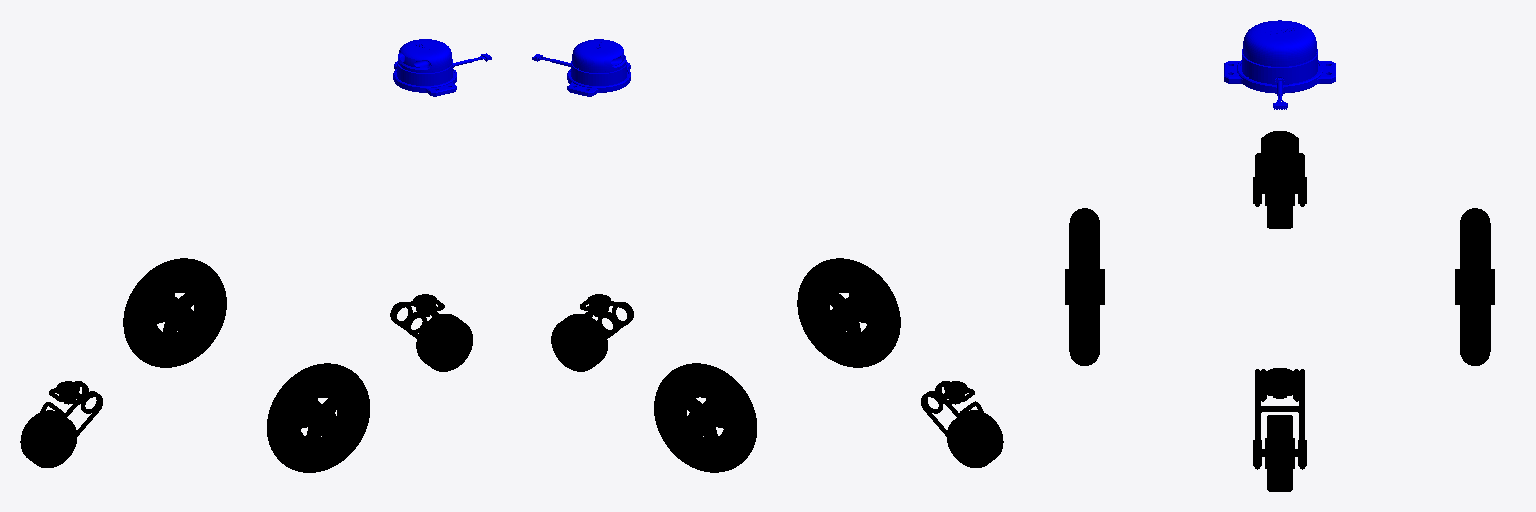
The robot description file, URDF, robot "adamr2":
<?xml version="1.0" encoding="utf-8"?>
<!-- =================================================================================== -->
<!-- |    This document was autogenerated by xacro from robot.xacro                    | -->
<!-- |    EDITING THIS FILE BY HAND IS NOT RECOMMENDED                                 | -->
<!-- =================================================================================== -->
<robot name="adamr2">
  <!-- base_footprint -->
  <link name="base_footprint"/>
  <joint name="base_link_joint" type="fixed">
    <origin xyz="0.0 0.0 0.262"/>
    <parent link="base_footprint"/>
    <child link="base_link"/>
  </joint>
  <link name="base_link">
    <visual>
      <origin xyz="0.0 0.0 0.0"/>
      <geometry>
        <mesh filename="package://adamr2_description/meshes/base_link.STL"/>
      </geometry>
      <material name="red">
        <color rgba="1.0 0.0 0.0 1.0"/>
      </material>
    </visual>
    <inertial>
      <origin xyz="0.0 0.0 0.0"/>
      <mass value="22.68"/>
      <inertia ixx="0.39" ixy="0.04" ixz="0.0" iyy="0.64" iyz="0.02" izz="0.70"/>
    </inertial>
    <collision>
      <origin xyz="0.0 0.0 0.0"/>
      <geometry>
        <box size="0.59 0.32 0.275"/>
      </geometry>
    </collision>
  </link>
  <joint name="left_wheel_joint" type="continuous">
    <origin xyz="0.0 0.1915 -0.1845"/>
    <parent link="base_link"/>
    <child link="left_wheel_link"/>
    <axis xyz="0 1 0"/>
  </joint>
  <link name="left_wheel_link">
    <visual>
      <origin rpy="0.0 0.0 0.0"/>
      <geometry>
        <mesh filename="package://adamr2_description/meshes/wheel_link.STL"/>
      </geometry>
      <material name="black">
        <color rgba="0.0 0.0 0.0 1.0"/>
      </material>
    </visual>
    <inertial>
      <origin xyz="0.0 0.0 0.0"/>
      <mass value="0.4"/>
      <inertia ixx="0.001" ixy="0.0" ixz="0.0" iyy="0.0006" iyz="0.0" izz="0.0006"/>
    </inertial>
    <collision>
      <origin rpy="1.57079632679 0.0 0.0" xyz="0.0 0.0 0.0"/>
      <geometry>
        <cylinder length="0.030" radius="0.0775"/>
      </geometry>
    </collision>
  </link>
  <transmission name="left_wheel_trans">
    <type>transmission_interface/SimpleTransmission</type>
    <joint name="left_wheel_joint">
      <hardwareInterface>hardware_interface/VelocityJointInterface</hardwareInterface>
    </joint>
    <actuator name="left_wheel_motor">
      <hardwareInterface>hardware_interface/VelocityJointInterface</hardwareInterface>
      <mechanicalReduction>1</mechanicalReduction>
    </actuator>
  </transmission>
  <joint name="right_wheel_joint" type="continuous">
    <origin xyz="0.0 -0.1915 -0.1845"/>
    <parent link="base_link"/>
    <child link="right_wheel_link"/>
    <axis xyz="0 1 0"/>
  </joint>
  <link name="right_wheel_link">
    <visual>
      <origin rpy="0.0 0.0 0.0"/>
      <geometry>
        <mesh filename="package://adamr2_description/meshes/wheel_link.STL"/>
      </geometry>
      <material name="black">
        <color rgba="0.0 0.0 0.0 1.0"/>
      </material>
    </visual>
    <inertial>
      <origin xyz="0.0 0.0 0.0"/>
      <mass value="0.4"/>
      <inertia ixx="0.001" ixy="0.0" ixz="0.0" iyy="0.0006" iyz="0.0" izz="0.0006"/>
    </inertial>
    <collision>
      <origin rpy="1.57079632679 0.0 0.0" xyz="0.0 0.0 0.0"/>
      <geometry>
        <cylinder length="0.030" radius="0.0775"/>
      </geometry>
    </collision>
  </link>
  <transmission name="right_wheel_trans">
    <type>transmission_interface/SimpleTransmission</type>
    <joint name="right_wheel_joint">
      <hardwareInterface>hardware_interface/VelocityJointInterface</hardwareInterface>
    </joint>
    <actuator name="right_wheel_motor">
      <hardwareInterface>hardware_interface/VelocityJointInterface</hardwareInterface>
      <mechanicalReduction>1</mechanicalReduction>
    </actuator>
  </transmission>
  <joint name="back_caster_support_joint" type="continuous">
    <origin xyz="-0.275 0.0 -0.1498"/>
    <parent link="base_link"/>
    <child link="back_caster_support_link"/>
    <axis xyz="0 0 1"/>
  </joint>
  <link name="back_caster_support_link">
    <visual>
      <origin rpy="0.0 0.0 0.0"/>
      <geometry>
        <mesh filename="package://adamr2_description/meshes/caster_link.STL"/>
      </geometry>
      <material name="red">
        <color rgba="0.0 0.0 0.0 1.0"/>
      </material>
    </visual>
    <inertial>
      <origin xyz="0.0 0.0 0.0"/>
      <mass value="0.3"/>
      <inertia ixx="1e-5" ixy="0.0" ixz="0.0" iyy="1e-5" iyz="0.0" izz="1e-5"/>
    </inertial>
  </link>
  <joint name="back_caster_wheel_joint" type="continuous">
    <origin rpy="0.0 0.0 0.0" xyz="-0.030 0.0 -0.072"/>
    <parent link="back_caster_support_link"/>
    <child link="back_caster_wheel_link"/>
    <axis xyz="0.0 1 0.0"/>
  </joint>
  <link name="back_caster_wheel_link">
    <inertial>
      <origin xyz="0.0 0.0 0.0"/>
      <mass value="0.17"/>
      <inertia ixx="1e-5" ixy="0.0" ixz="0.0" iyy="1e-5" iyz="0.0" izz="1e-5"/>
    </inertial>
    <collision>
      <origin rpy="1.57079632679 0.0 0.0" xyz="0.0 0.0 0.0"/>
      <geometry>
        <cylinder length="0.025" radius="0.0375"/>
      </geometry>
    </collision>
  </link>
  <joint name="front_caster_support_joint" type="continuous">
    <origin rpy="0 0 3.14159265359" xyz="0.275 0.0 -0.1498"/>
    <parent link="base_link"/>
    <child link="front_caster_support_link"/>
    <axis xyz="0 0 1"/>
  </joint>
  <link name="front_caster_support_link">
    <visual>
      <origin rpy="0.0 0.0 0.0"/>
      <geometry>
        <mesh filename="package://adamr2_description/meshes/caster_link.STL"/>
      </geometry>
      <material name="red">
        <color rgba="0.0 0.0 0.0 1.0"/>
      </material>
    </visual>
    <inertial>
      <origin xyz="0.0 0.0 0.0"/>
      <mass value="0.3"/>
      <inertia ixx="1e-5" ixy="0.0" ixz="0.0" iyy="1e-5" iyz="0.0" izz="1e-5"/>
    </inertial>
  </link>
  <joint name="front_caster_wheel_joint" type="continuous">
    <origin rpy="0.0 0.0 0.0" xyz="-0.030 0.0 -0.072"/>
    <parent link="front_caster_support_link"/>
    <child link="front_caster_wheel_link"/>
    <axis xyz="0.0 1 0.0"/>
  </joint>
  <link name="front_caster_wheel_link">
    <inertial>
      <origin xyz="0.0 0.0 0.0"/>
      <mass value="0.17"/>
      <inertia ixx="1e-5" ixy="0.0" ixz="0.0" iyy="1e-5" iyz="0.0" izz="1e-5"/>
    </inertial>
    <collision>
      <origin rpy="1.57079632679 0.0 0.0" xyz="0.0 0.0 0.0"/>
      <geometry>
        <cylinder length="0.025" radius="0.0375"/>
      </geometry>
    </collision>
  </link>
  <joint name="lidar_joint" type="fixed">
    <origin rpy="0 0 3.14159265359" xyz="0.275 0 0.177"/>
    <parent link="base_link"/>
    <child link="lidar_link"/>
  </joint>
  <link name="lidar_link">
    <visual>
      <geometry>
        <mesh filename="package://adamr2_description/meshes/lidar_link.STL"/>
      </geometry>
      <material name="blue">
        <color rgba="0.0 0.0 1.0 1.0"/>
      </material>
    </visual>
  </link>
</robot>

--- What the picture shows (computed from the rendered views, not written in the file) ---
Views: 3 orthographic renders of the robot side by side, from view 1: azimuth 30°, elevation 25°; view 2: azimuth 150°, elevation 25°; view 3: azimuth 270°, elevation 25°.
Robot: adamr2 — 9 links, 8 joints (6 continuous, 2 fixed); root link base_footprint; default pose: every joint at zero.
Visible links, largest first — view 1: right_wheel_link, left_wheel_link, back_caster_support_link, front_caster_support_link, lidar_link; view 2: right_wheel_link, left_wheel_link, back_caster_support_link, front_caster_support_link, lidar_link; view 3: lidar_link, left_wheel_link, right_wheel_link, front_caster_support_link, back_caster_support_link.
Link boxes in pixels (x1=…): right_wheel_link: x1=267, y1=363, x2=369, y2=472; left_wheel_link: x1=123, y1=258, x2=226, y2=367; back_caster_support_link: x1=20, y1=381, x2=102, y2=467; front_caster_support_link: x1=390, y1=294, x2=472, y2=371; lidar_link: x1=393, y1=39, x2=491, y2=96; right_wheel_link: x1=797, y1=258, x2=900, y2=367; left_wheel_link: x1=654, y1=363, x2=756, y2=472; back_caster_support_link: x1=921, y1=381, x2=1003, y2=467; front_caster_support_link: x1=551, y1=294, x2=633, y2=371; lidar_link: x1=532, y1=39, x2=630, y2=96; lidar_link: x1=1224, y1=20, x2=1335, y2=109; left_wheel_link: x1=1455, y1=208, x2=1494, y2=365; right_wheel_link: x1=1065, y1=208, x2=1104, y2=365; front_caster_support_link: x1=1253, y1=368, x2=1306, y2=491; back_caster_support_link: x1=1253, y1=131, x2=1306, y2=228.
Bounding box of the posed robot: 0.7161 × 0.422 × 0.4822 m (x, y, z).
5 mesh visuals loaded from 4 distinct referenced files (3 binary STL); not drawn: 1 (reference not matched to a file when rendering).
